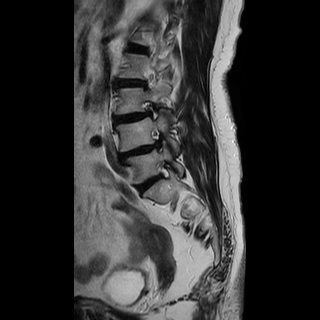RFS2: (135, 94, 164, 123)
